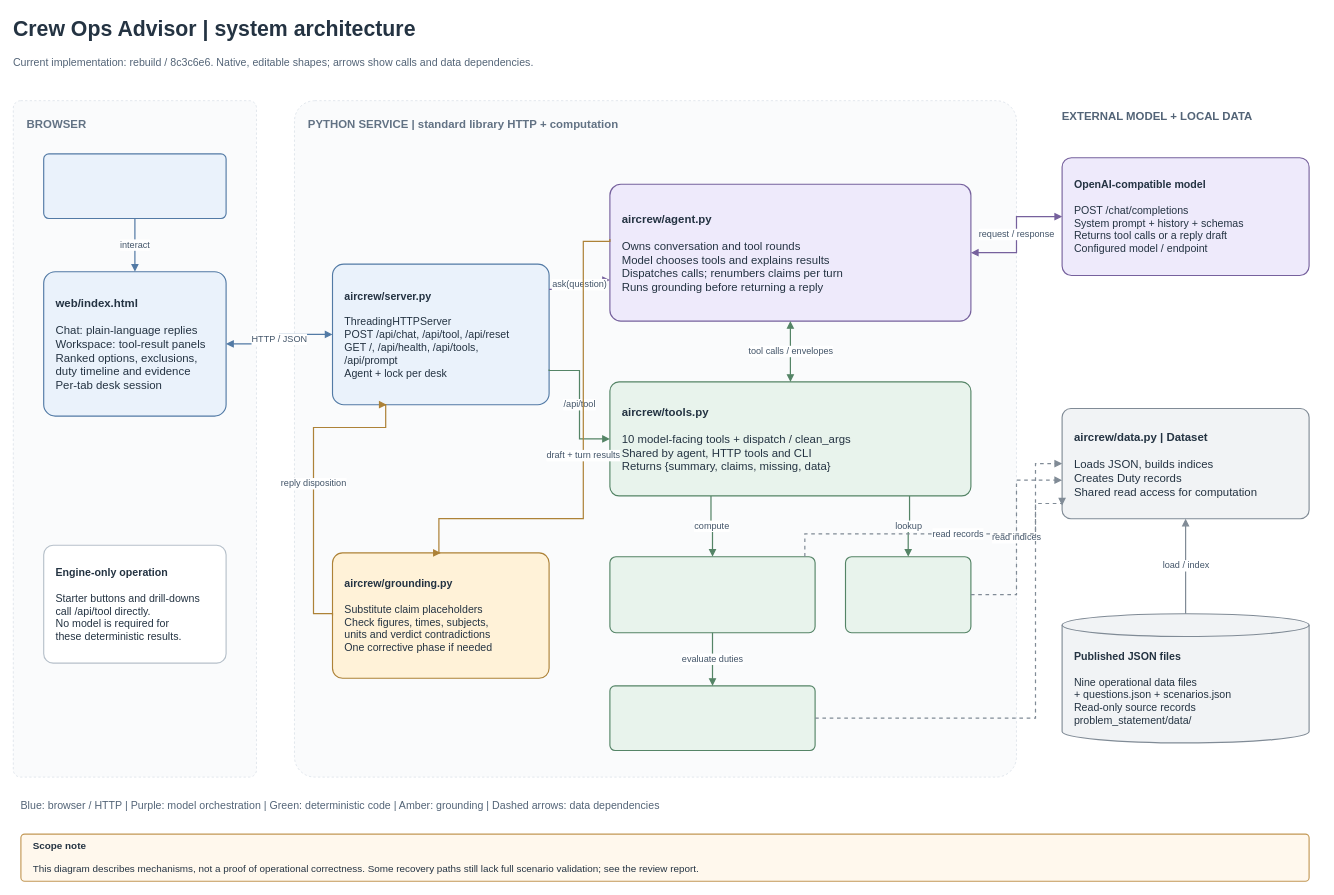
Image size: 1334x895. Some labels were removed from this diagram. The shapes that lost their labels are listed below. From the top down, each one's centre as x and y in pixels, then its label:
At (134,186): "Crew controller Question, disruption or drill-down".
At (712,594): "aircrew/engine.py Assignment, impact, cost, ranking and recovery".
At (908,594): "query.py Typed lookups and profiles".
At (712,718): "aircrew/rules.py Seven rules; structured Findings".
